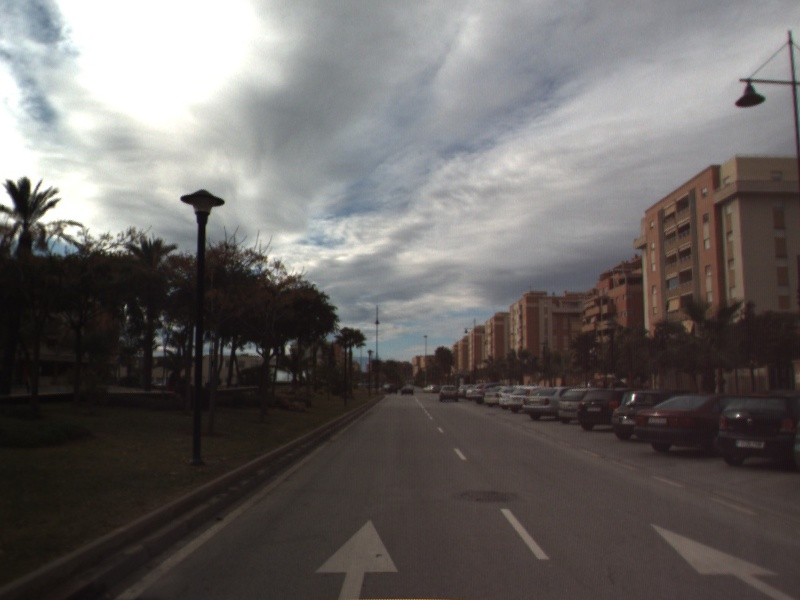STRAIGHT: (646, 520, 800, 600), (311, 515, 402, 600)
